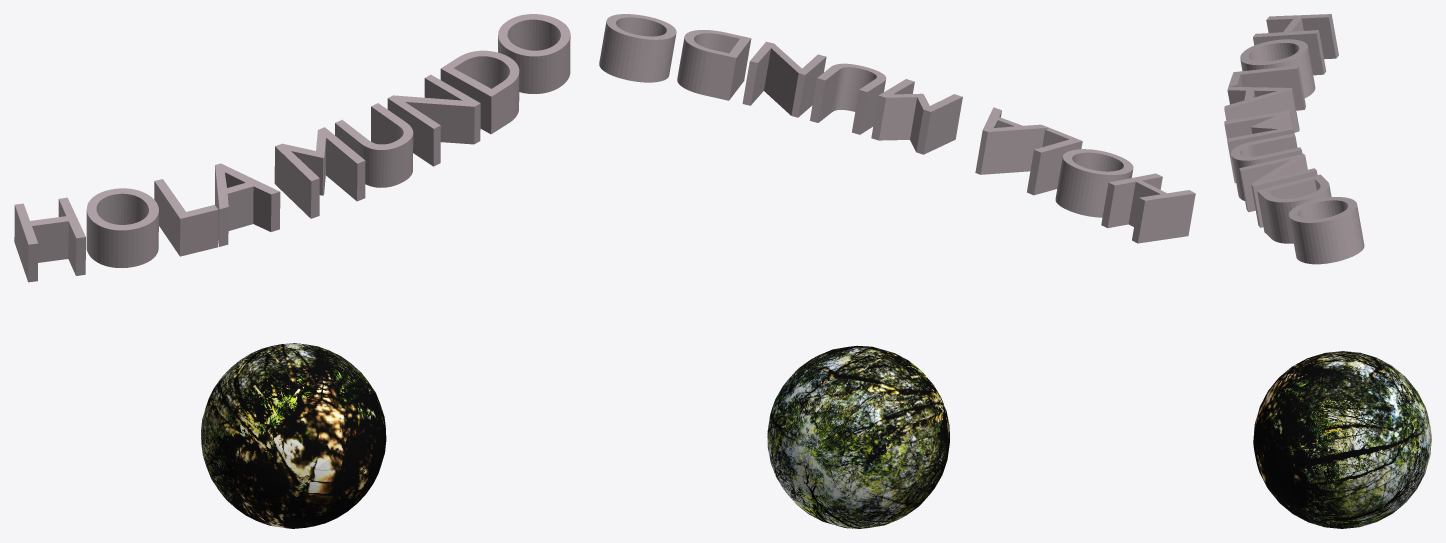
The model's file is ahorasi3.dae.
The picture shows the model from 3 angles, left to right: view 1: azimuth 30°, elevation 25°; view 2: azimuth 150°, elevation 25°; view 3: azimuth 270°, elevation 25°; orthographic projection. The views are drawn at different scales.
Visible parts, largest first — view 1: Text, Sphere; view 2: Text, Sphere; view 3: Sphere, Text.
Boxes of the visible parts, x1=… form: Text: x1=14, y1=14, x2=570, y2=282; Sphere: x1=201, y1=343, x2=386, y2=528; Text: x1=599, y1=14, x2=1195, y2=243; Sphere: x1=767, y1=345, x2=949, y2=528; Sphere: x1=1253, y1=351, x2=1431, y2=528; Text: x1=1224, y1=14, x2=1364, y2=264.
Bounding box in the file's own units: 7.06 × 2.33 × 5.25.
2 materials, 1 textured.
